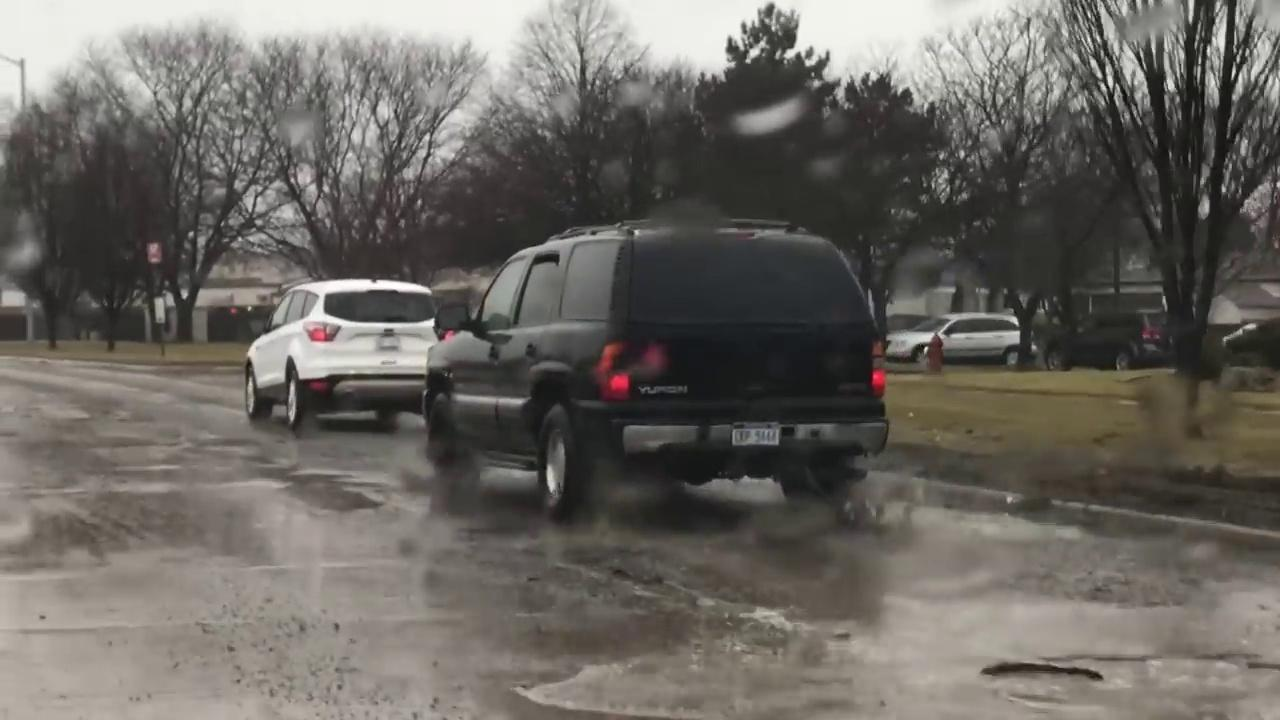pothole: (981, 661, 1103, 679)
